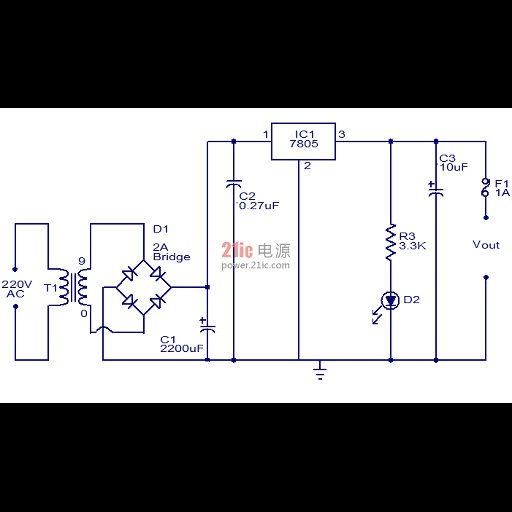firstled: (366, 288, 402, 328)
firstpolarcapacitor: (197, 313, 221, 338), (426, 179, 447, 201)
gnd: (309, 367, 330, 382)
rectifierbridge: (115, 257, 174, 316)
secondresistance: (381, 214, 397, 264)
transformer: (57, 269, 89, 306)
